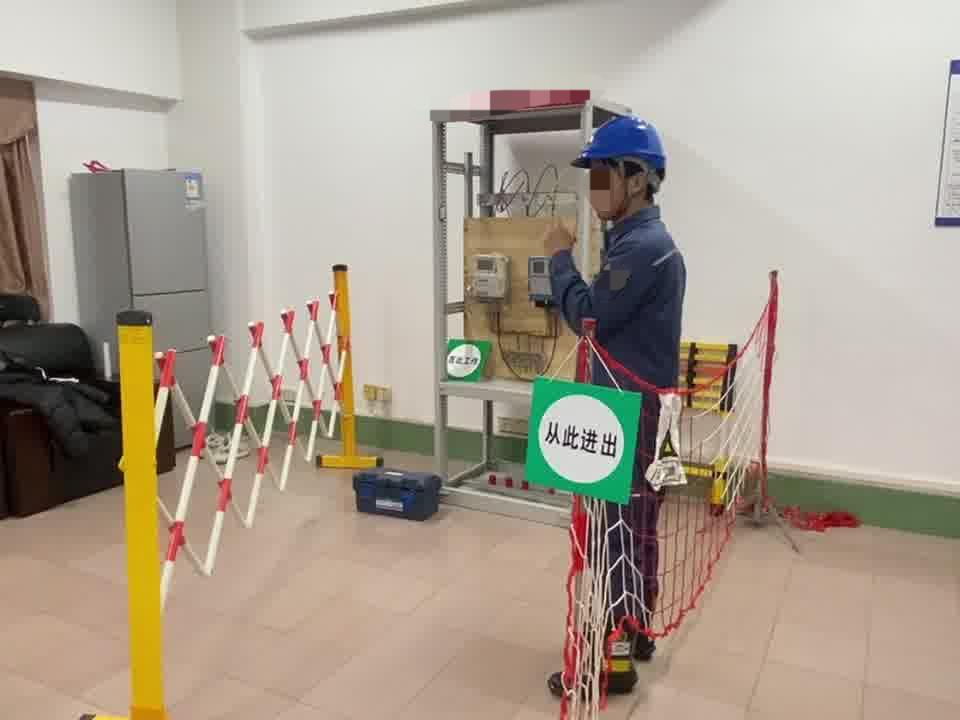halt: (575, 118, 673, 224)
inear: (617, 160, 655, 209)
